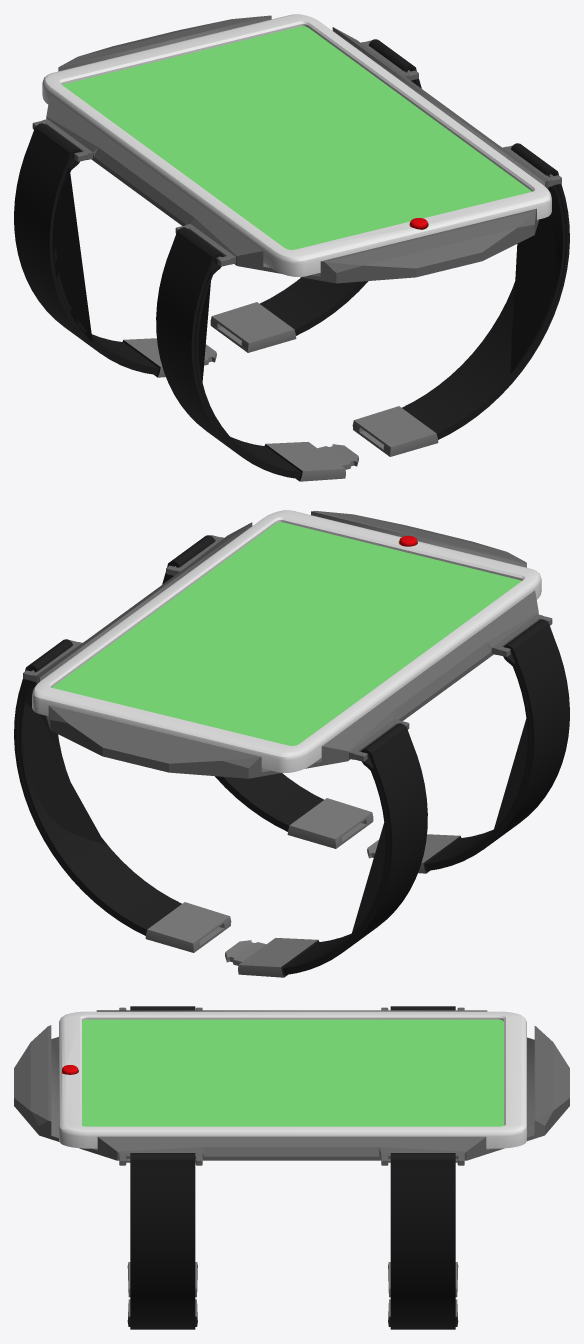
The model's file is Watch.fbx.
The picture shows the model from 3 angles, top to bottom: view 1: azimuth 30°, elevation 25°; view 2: azimuth 150°, elevation 25°; view 3: azimuth 270°, elevation 25°; orthographic projection. The views are drawn at different scales.
Visible parts, largest first — view 1: Cube, Cube.001, Cube.004, Cube.002; view 2: Cube, Cube.001, Cube.004, Cube.002; view 3: Cube, Cube.004, Cube.002, Cube.001.
Part boxes in pixels (x1,y1,x2,y2): Cube: (42, 14, 551, 276); Cube.001: (14, 123, 358, 481); Cube.004: (210, 39, 569, 456); Cube.002: (32, 15, 561, 283); Cube: (32, 510, 541, 772); Cube.001: (225, 619, 569, 977); Cube.004: (14, 535, 373, 952); Cube.002: (23, 511, 552, 778); Cube: (59, 1011, 526, 1148); Cube.004: (127, 1153, 458, 1329); Cube.002: (14, 1007, 569, 1165); Cube.001: (127, 1006, 458, 1297).
Size of the model in its own units: 338 by 231 by 469.
